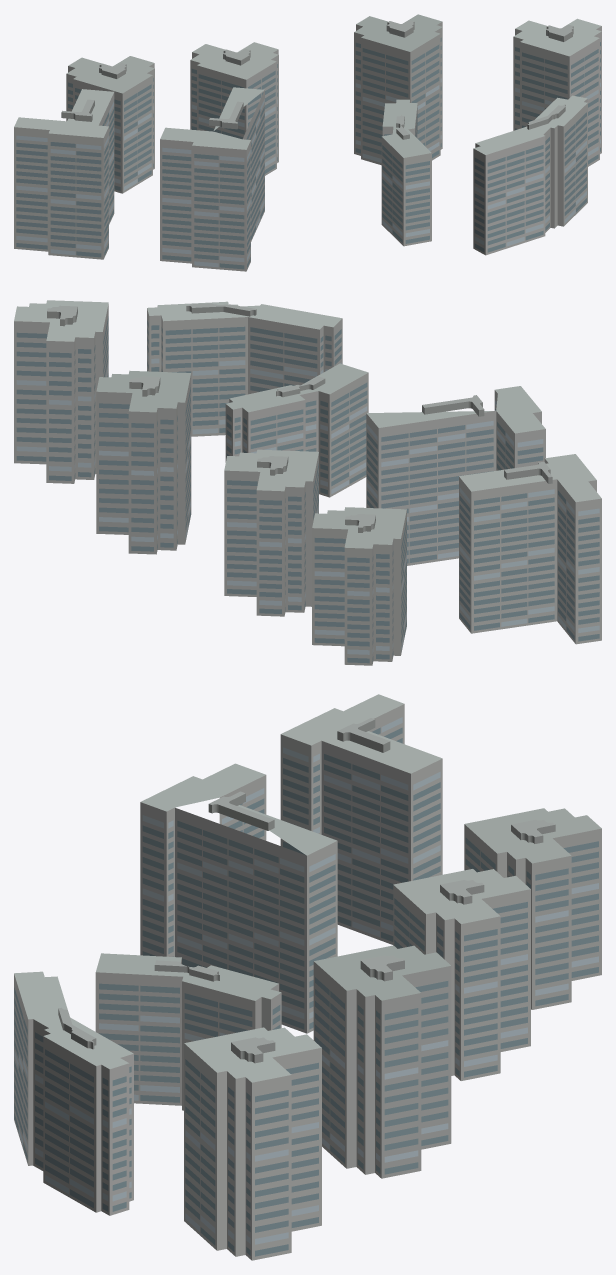
File: apt-a13778202.glb
The picture shows the model from 3 angles, top to bottom: view 1: azimuth 30°, elevation 25°; view 2: azimuth 150°, elevation 25°; view 3: azimuth 270°, elevation 25°; orthographic projection. The views are drawn at different scales.
Parts seen in each view (by area): view 1: apt-a13778202; view 2: apt-a13778202; view 3: apt-a13778202.
Boxes of the visible parts, x1,y1,x2,y2 form: apt-a13778202: (14, 14, 601, 271); apt-a13778202: (14, 300, 601, 665); apt-a13778202: (14, 694, 601, 1260).
Bounding box in the file's own units: 228 × 51 × 146.
